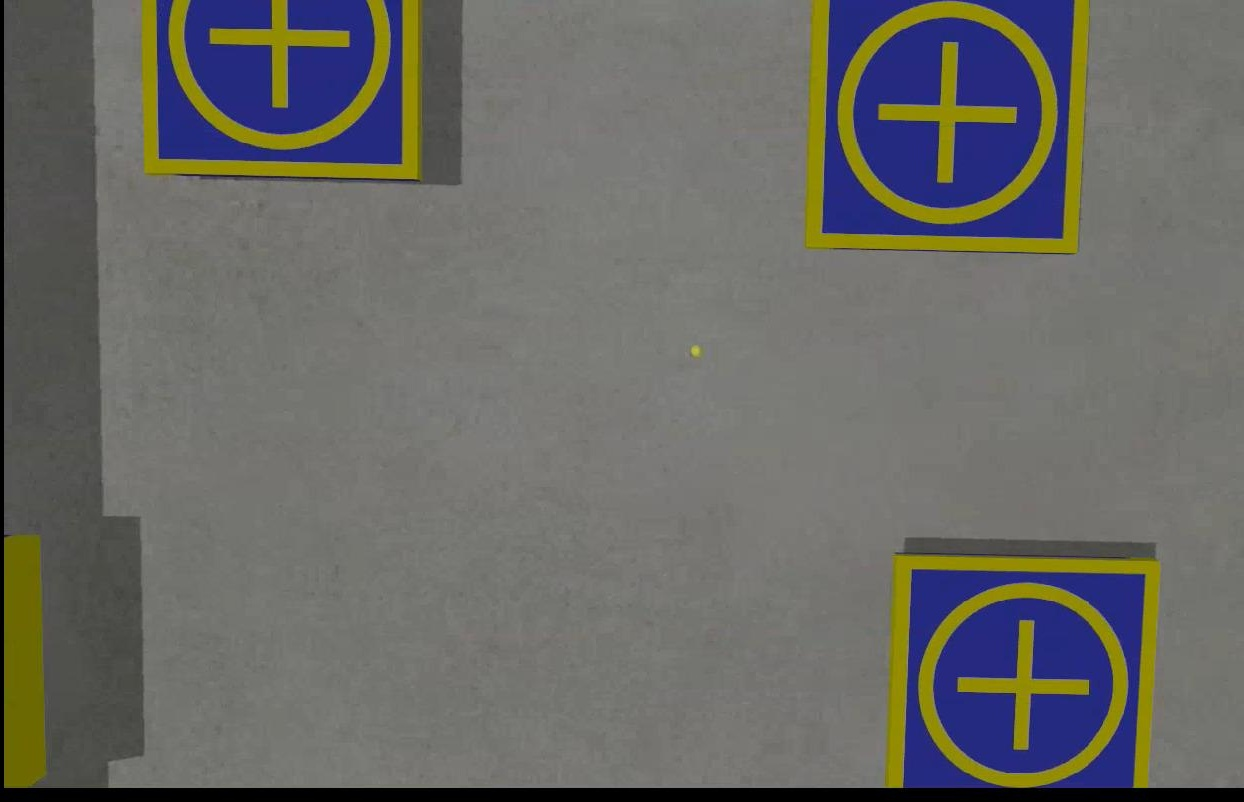small_base: (803, 1, 1088, 256), (886, 552, 1157, 791), (141, 1, 419, 182)
